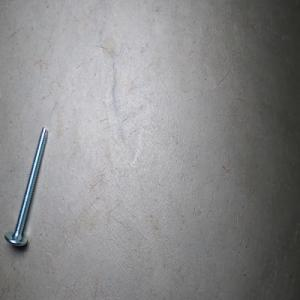Bolt: (4, 126, 48, 247)
